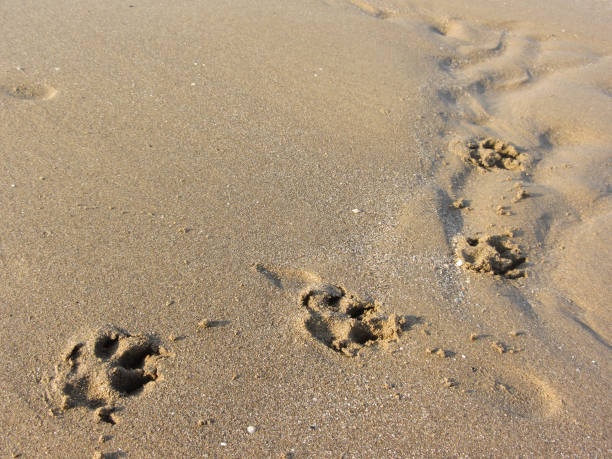animal_foot_print: (48, 326, 162, 423), (299, 283, 409, 355), (456, 234, 525, 277), (457, 138, 528, 169), (2, 83, 56, 99)
